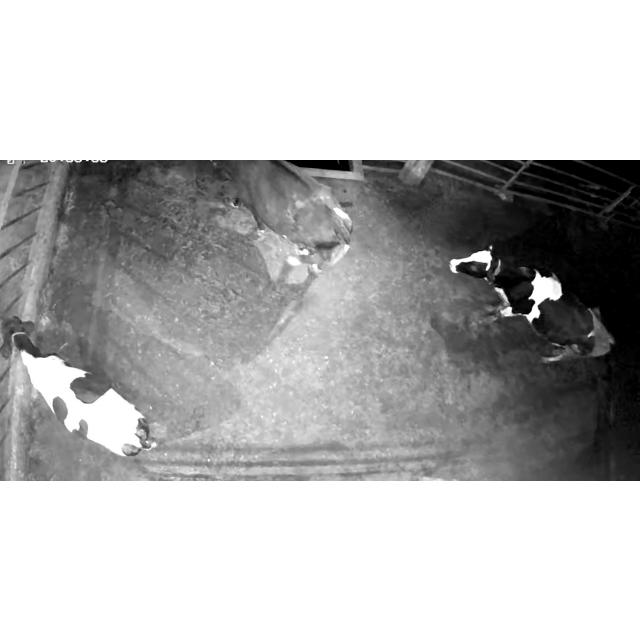stand: (0, 315, 156, 456), (449, 244, 603, 362)
